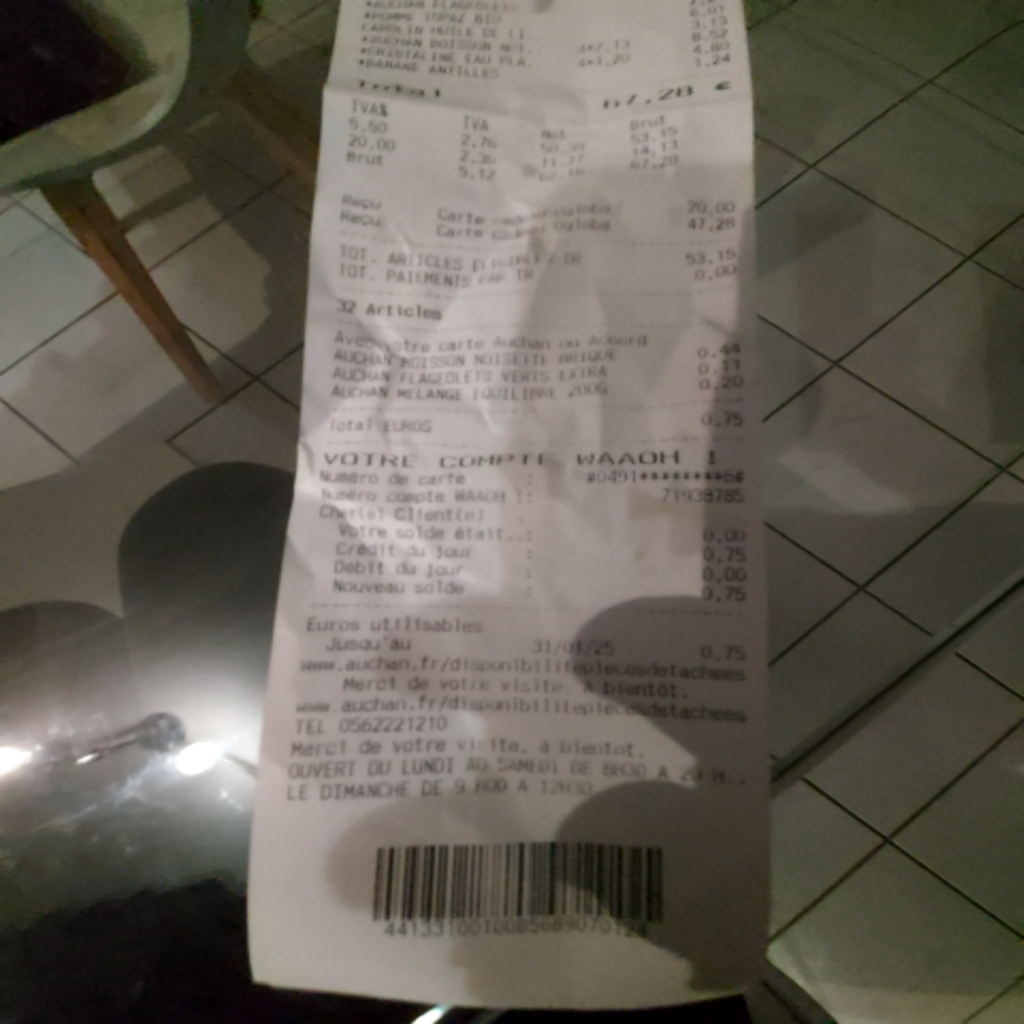recipt: (248, 0, 764, 1011)
